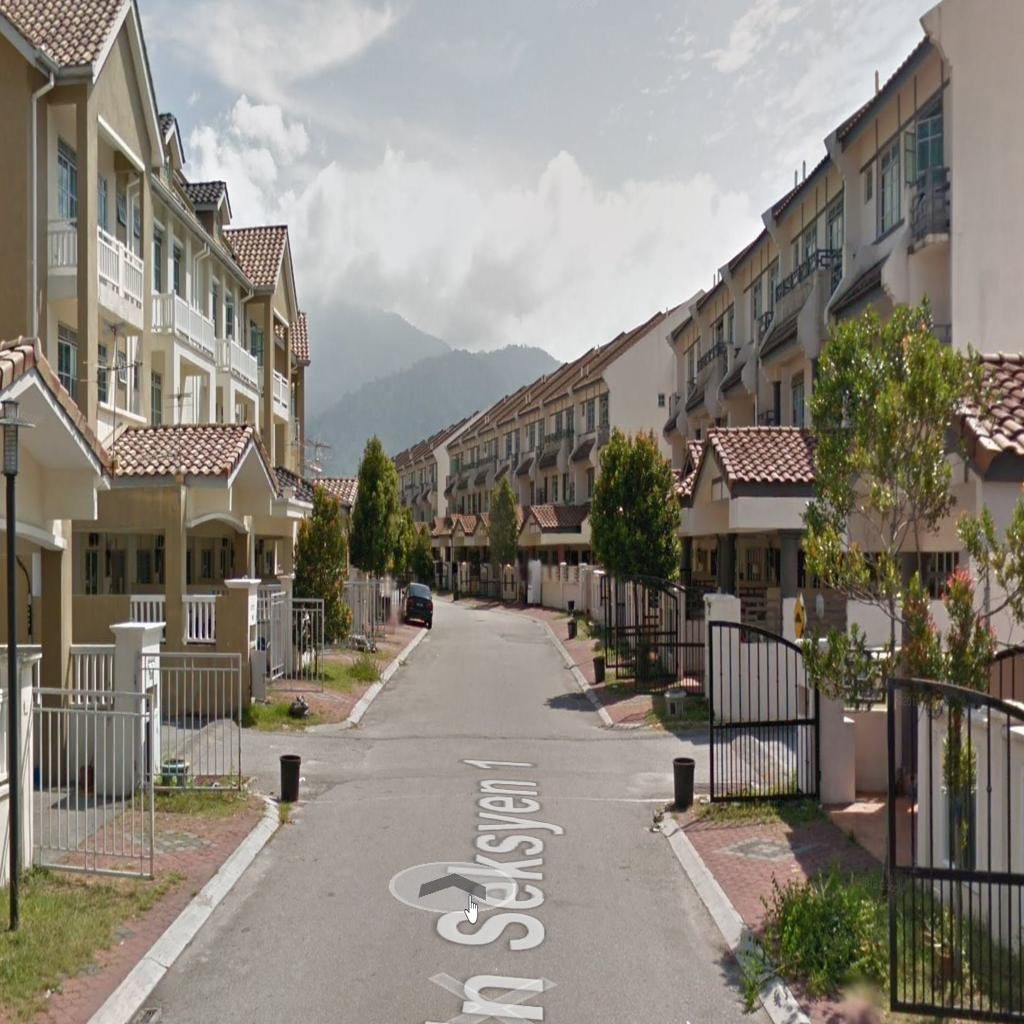Junction: (162, 684, 372, 832), (592, 694, 799, 841)
